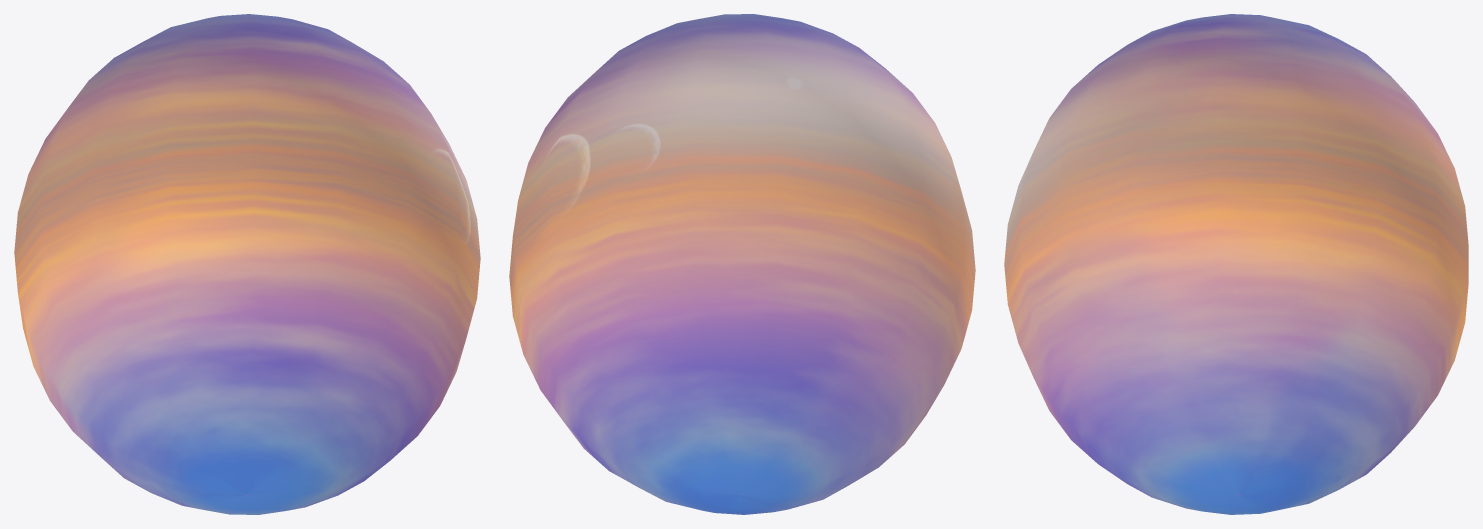
File: fond2-Bv21emK4.glb
The picture shows the model from 3 angles, left to right: view 1: azimuth 30°, elevation 25°; view 2: azimuth 150°, elevation 25°; view 3: azimuth 270°, elevation 25°; orthographic projection.
Visible parts, largest first — view 1: world; view 2: world; view 3: world.
Boxes of the visible parts, x1=… form: world: x1=14, y1=14, x2=480, y2=514; world: x1=509, y1=14, x2=975, y2=514; world: x1=1004, y1=14, x2=1468, y2=514.
Size of the model in its own units: 2738 by 2989 by 2727.
1 material, 1 textured.
